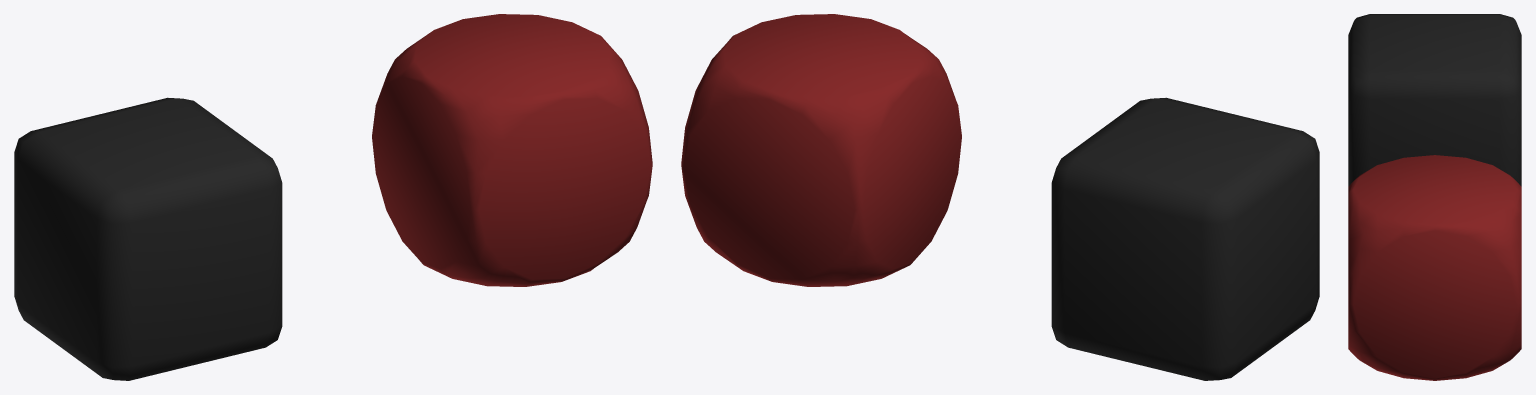
3 views of the same model, side by side, from view 1: azimuth 30°, elevation 25°; view 2: azimuth 150°, elevation 25°; view 3: azimuth 270°, elevation 25° (orthographic). The views are drawn at different scales.
Visible parts, largest first — view 1: Dice_Smooth_low, Dice_2_low; view 2: Dice_Smooth_low, Dice_2_low; view 3: Dice_2_low, Dice_Smooth_low.
Boxes of the visible parts, <box> form: Dice_Smooth_low: <box>14,97,282,380</box>; Dice_2_low: <box>372,14,652,286</box>; Dice_Smooth_low: <box>1051,97,1319,380</box>; Dice_2_low: <box>681,14,961,286</box>; Dice_2_low: <box>1348,155,1521,380</box>; Dice_Smooth_low: <box>1348,14,1521,186</box>.
Size of the model in its own units: 2 by 0.6667 by 0.6667.
